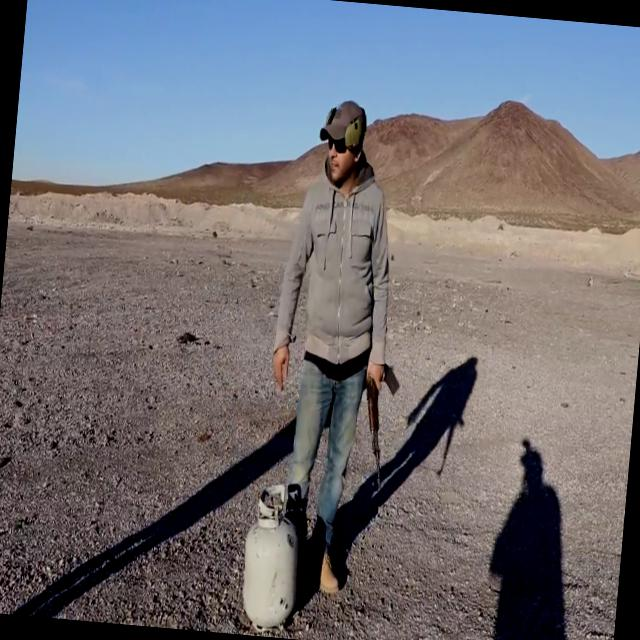long weapon: (353, 342, 405, 503)
